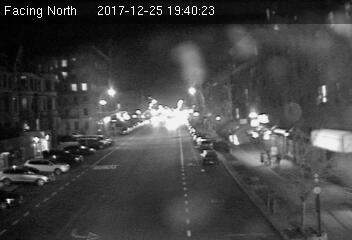car: (201, 149, 216, 164)
